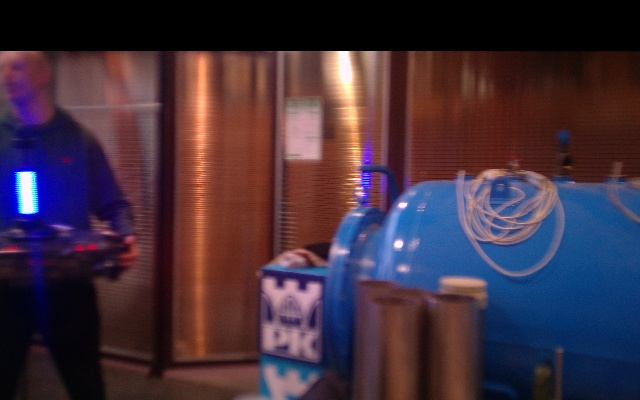blue: (17, 169, 37, 215)
